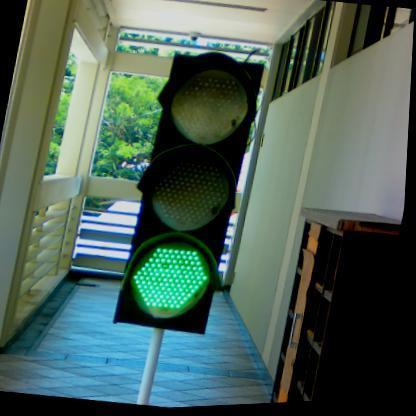green: (113, 49, 269, 340)
